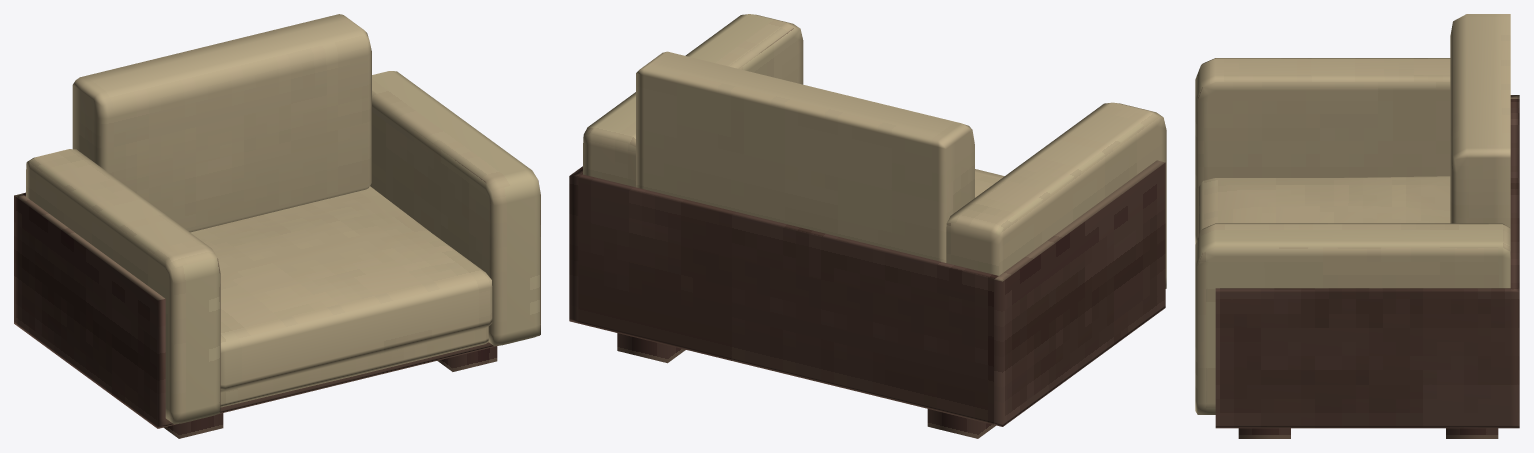
File: a_com_building_b01_sofa01.gltf
3 renders of one model, left to right at view 1: azimuth 30°, elevation 25°; view 2: azimuth 150°, elevation 25°; view 3: azimuth 270°, elevation 25°, orthographic. The views are drawn at different scales.
Parts seen in each view (by area): view 1: a_com_building_b01_sofa01_mesh_shape:a_com_building_b01_sofa; view 2: a_com_building_b01_sofa01_mesh_shape:a_com_building_b01_sofa; view 3: a_com_building_b01_sofa01_mesh_shape:a_com_building_b01_sofa.
Boxes of the visible parts, x1,y1,x2,y2 form: a_com_building_b01_sofa01_mesh_shape:a_com_building_b01_sofa: (14, 14, 540, 438); a_com_building_b01_sofa01_mesh_shape:a_com_building_b01_sofa: (569, 14, 1166, 438); a_com_building_b01_sofa01_mesh_shape:a_com_building_b01_sofa: (1195, 14, 1519, 438).
Size of the model in its own units: 1.29 by 0.8424 by 0.8989.
Materials: 1 (1 with a texture image).
